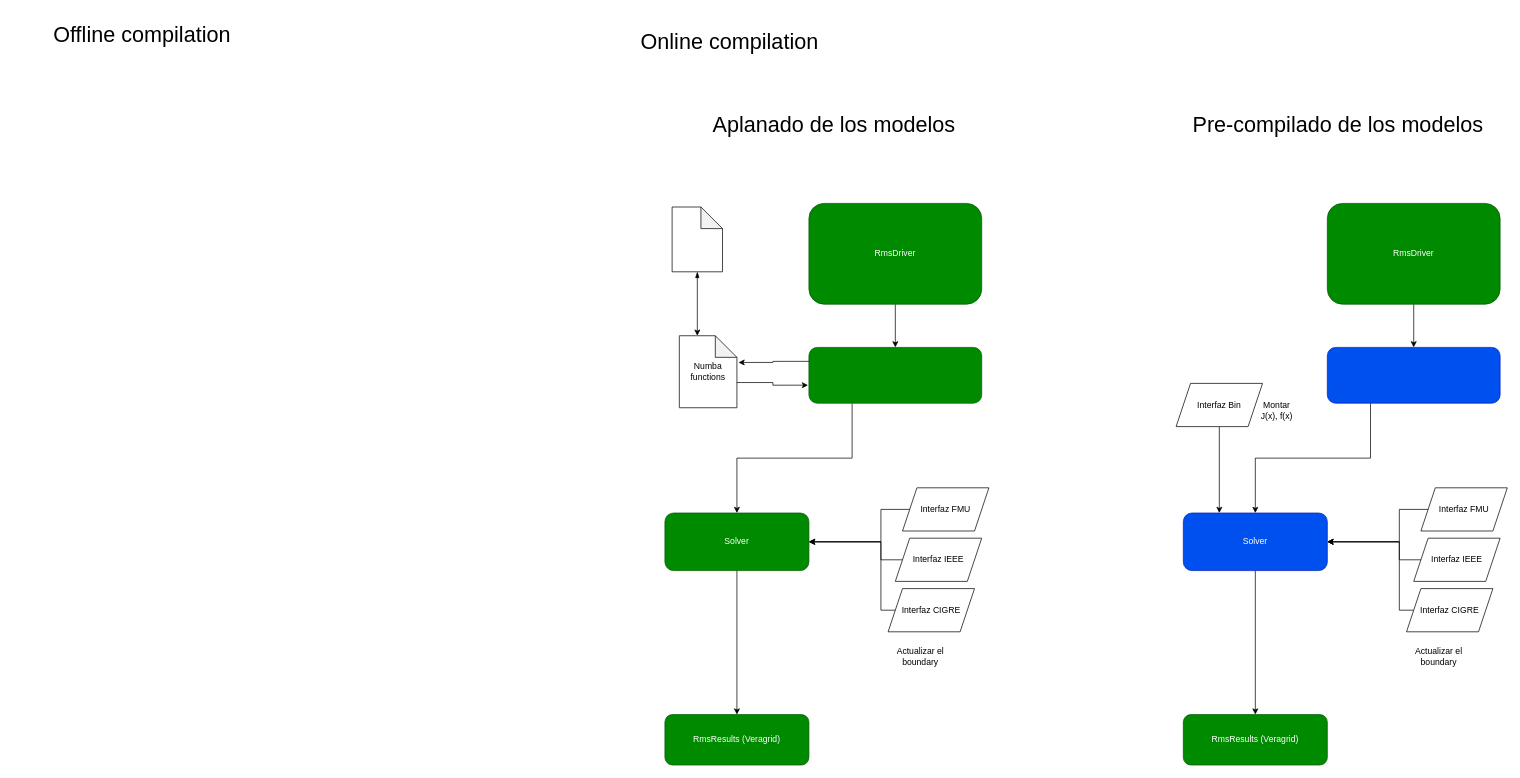
The diagram is 1520 pixels wide and 778 high, and some of its shapes have lost their labels. Each missing label, with the centre of its shape:
"DLL" goes at (697,239).
"RmsProblemDae" goes at (895,375).
"RmsProblemVectorized" goes at (1413,375).
